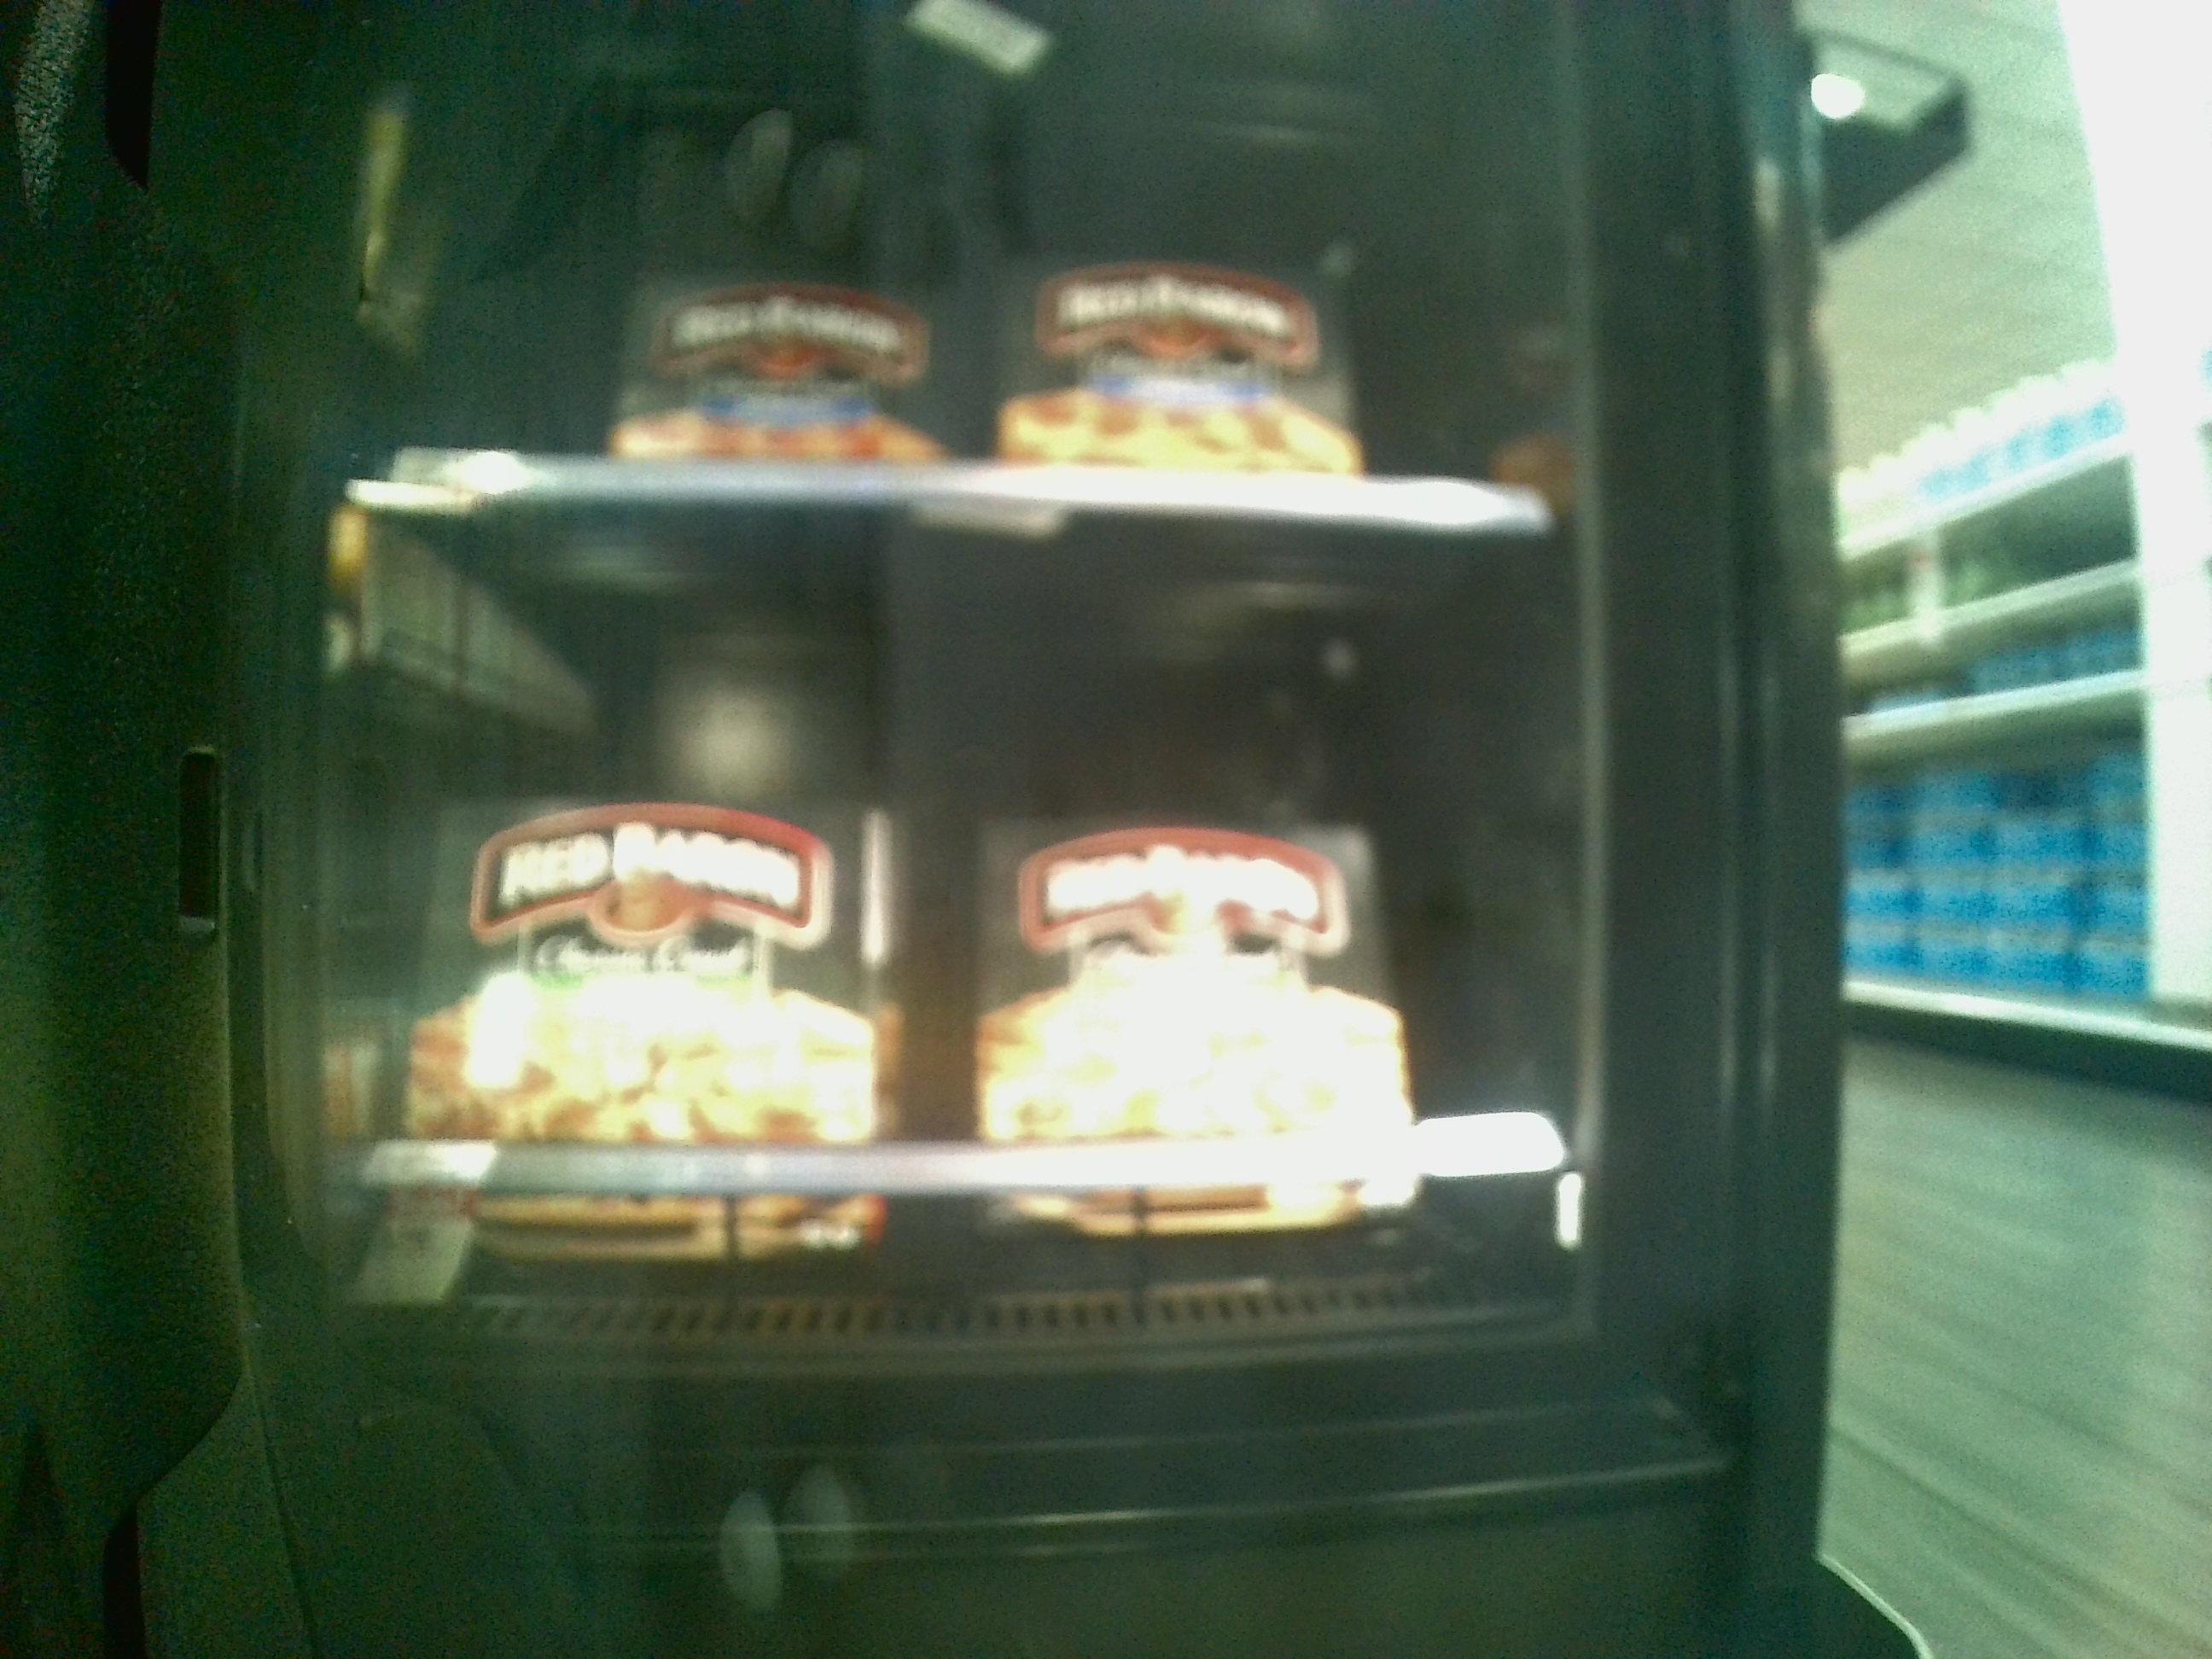shelf: (355, 518, 1580, 1324), (348, 5, 1576, 519)
